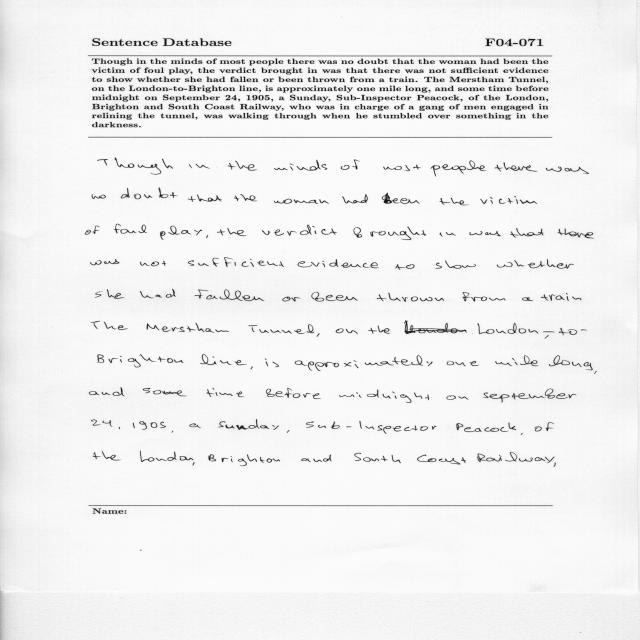word: (404, 321, 587, 339), (295, 355, 433, 371), (306, 421, 436, 434), (98, 158, 173, 175), (483, 389, 577, 402), (339, 390, 429, 403), (98, 355, 183, 368), (354, 227, 427, 240), (431, 161, 487, 177), (188, 258, 284, 267), (478, 452, 555, 463), (195, 289, 264, 301), (262, 225, 337, 236), (140, 451, 195, 466), (200, 355, 253, 370), (497, 259, 574, 269), (147, 323, 229, 332), (298, 259, 379, 268), (218, 419, 279, 430), (249, 324, 315, 334), (549, 355, 593, 370), (222, 455, 280, 466), (121, 188, 178, 199), (266, 388, 321, 399), (377, 293, 444, 302), (457, 423, 517, 433), (274, 160, 327, 171), (417, 455, 466, 465), (495, 355, 539, 366), (354, 453, 401, 463), (480, 196, 537, 204), (160, 226, 192, 240), (495, 162, 538, 172), (463, 292, 506, 302), (382, 193, 420, 204), (312, 292, 358, 301), (435, 260, 476, 269), (558, 229, 594, 239), (143, 388, 187, 396), (510, 228, 544, 238), (91, 321, 128, 330), (207, 388, 244, 397), (114, 224, 147, 234), (140, 289, 176, 298), (90, 388, 125, 397), (546, 167, 589, 174), (133, 421, 166, 430), (228, 161, 257, 171), (96, 289, 125, 299), (93, 451, 121, 461), (274, 199, 329, 204), (342, 194, 368, 204), (302, 454, 332, 462), (188, 195, 222, 202), (217, 228, 246, 236), (383, 165, 421, 171), (541, 293, 569, 301), (341, 159, 360, 170), (440, 198, 469, 205), (368, 326, 391, 334), (91, 259, 120, 265), (535, 423, 554, 432), (234, 194, 257, 201), (469, 231, 501, 236), (447, 361, 479, 366), (92, 420, 113, 427), (336, 329, 358, 335), (140, 261, 166, 266), (86, 226, 100, 235), (395, 264, 415, 270), (194, 230, 208, 238), (283, 297, 301, 302), (447, 396, 469, 400), (439, 232, 456, 237), (189, 164, 210, 168), (92, 194, 106, 199), (189, 423, 201, 428), (208, 455, 216, 462), (522, 297, 533, 301), (572, 297, 581, 301), (272, 362, 279, 367), (265, 359, 268, 367), (553, 462, 556, 467), (317, 333, 320, 337), (594, 371, 597, 374), (287, 430, 290, 433), (521, 433, 523, 435), (119, 427, 120, 429), (172, 431, 173, 433)
